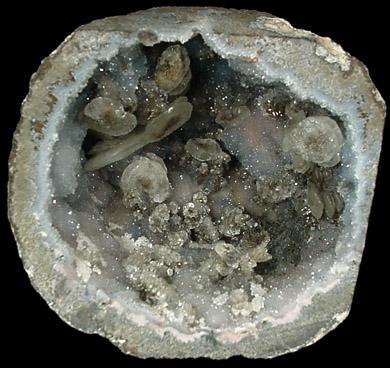calcite: (24, 49, 385, 348), (51, 79, 97, 198), (221, 114, 287, 176), (110, 49, 147, 86)
